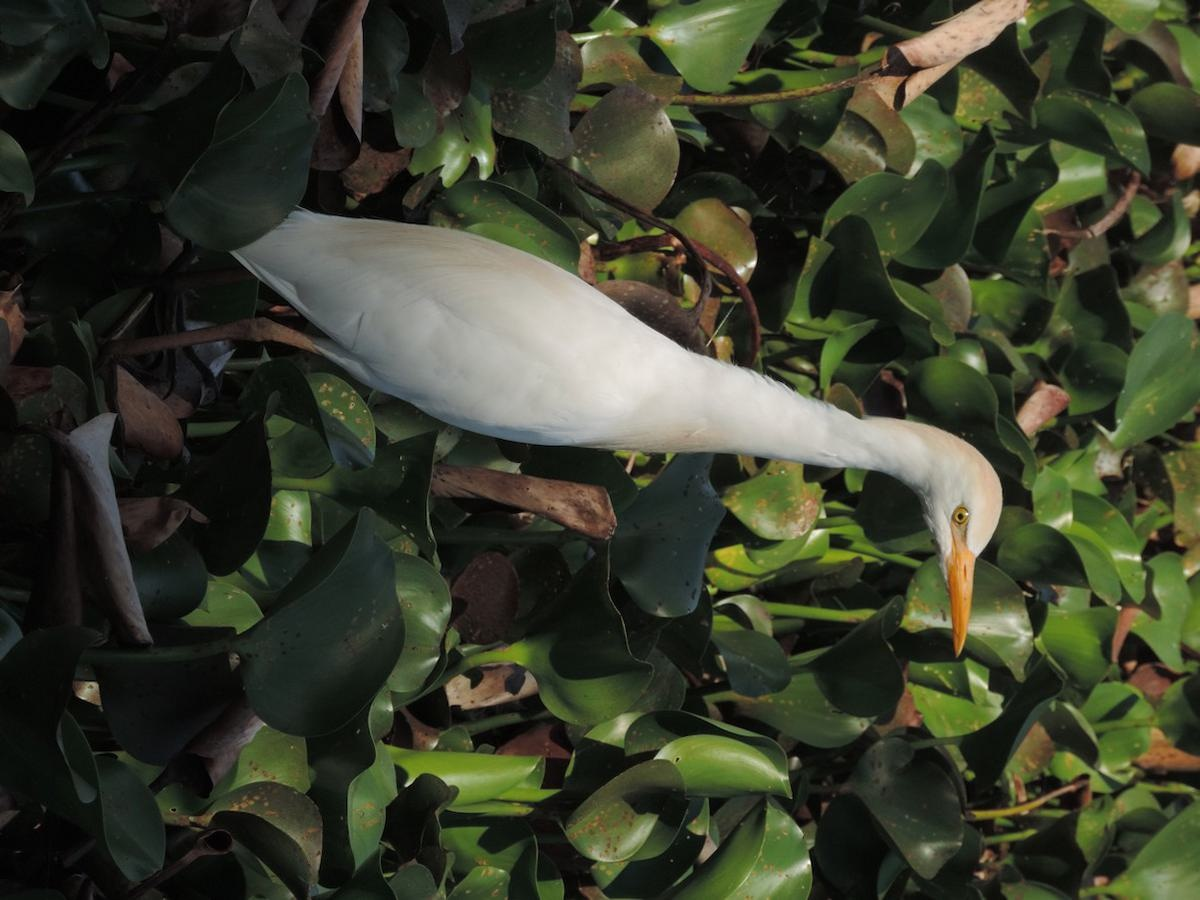egret: (177, 133, 1048, 664)
